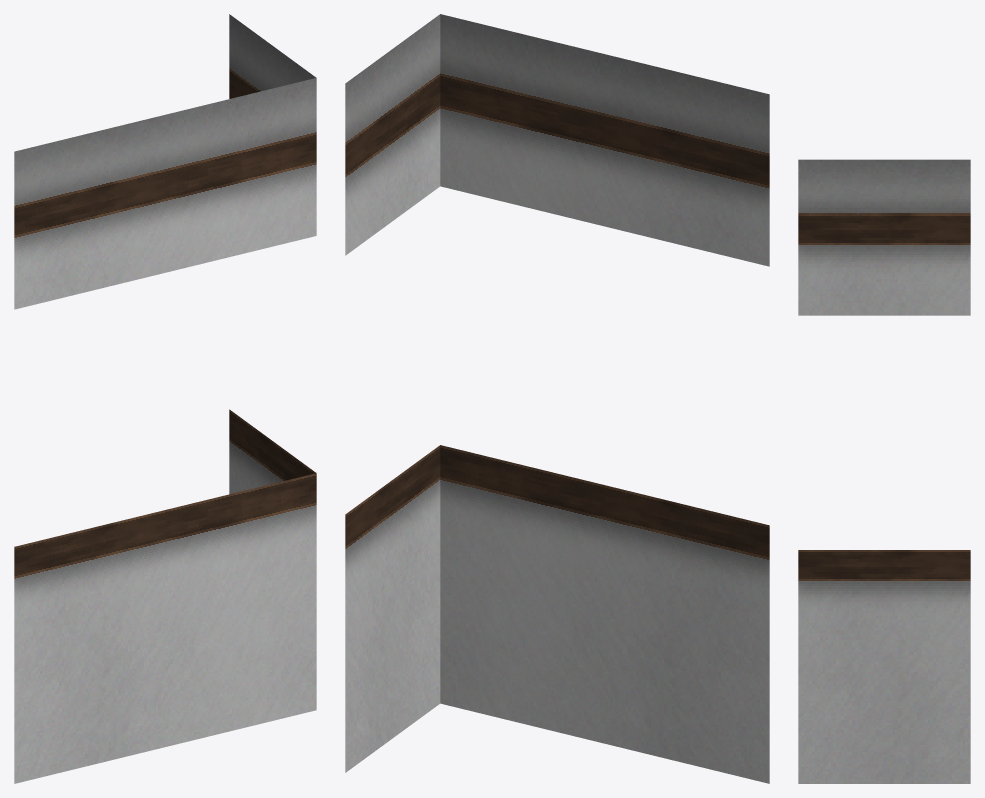
Rendered from house_big_window_wall_b_corner_2_inside.glb.
3 views of the same model, side by side, from view 1: azimuth 30°, elevation 25°; view 2: azimuth 150°, elevation 25°; view 3: azimuth 270°, elevation 25° (orthographic). The views are drawn at different scales.
Visible parts, largest first — view 1: house_big_window_wall_b_corner_2_inside; view 2: house_big_window_wall_b_corner_2_inside; view 3: house_big_window_wall_b_corner_2_inside.
Boxes of the visible parts, x1,y1,x2,y2 form: house_big_window_wall_b_corner_2_inside: (14,14,316,783); house_big_window_wall_b_corner_2_inside: (345,14,769,783); house_big_window_wall_b_corner_2_inside: (798,159,970,783).
Bounding box in the file's own units: 2 × 4 × 1.
Materials: 1 (1 with a texture image).
